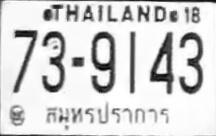1: (128, 30, 136, 94)
3: (178, 31, 204, 94), (40, 30, 66, 92)
4: (149, 30, 174, 94)
7: (12, 29, 38, 93)
9: (90, 30, 116, 94)
SPK: (44, 99, 172, 133)
